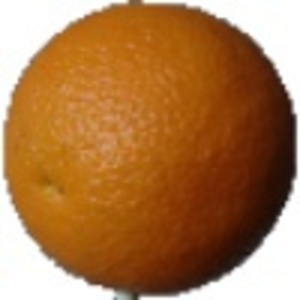laranja: (6, 2, 297, 296)
